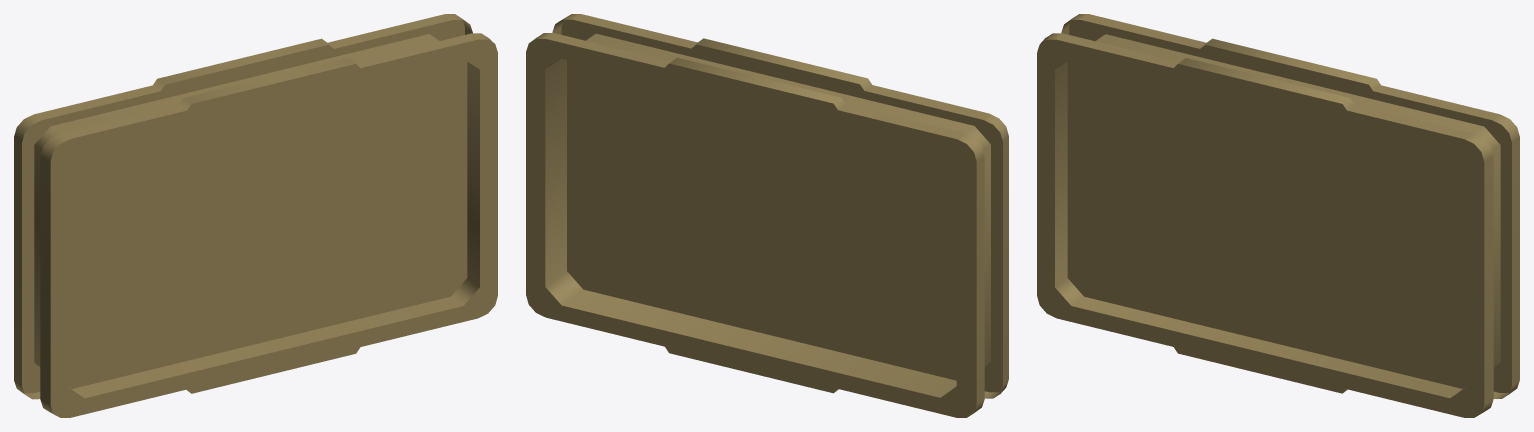
File: WindowKunckamera.fbx
The picture shows the model from 3 angles, left to right: view 1: azimuth 30°, elevation 25°; view 2: azimuth 150°, elevation 25°; view 3: azimuth 330°, elevation 25°; orthographic projection.
Parts seen in each view (by area): view 1: Glass01.001, WindowToKunckamera; view 2: Glass01.001, WindowToKunckamera; view 3: Glass01.001, WindowToKunckamera.
Boxes of the visible parts, left/top/right/bottom form: Glass01.001: left=68, top=59, right=467, bottom=388; WindowToKunckamera: left=14, top=14, right=497, bottom=417; Glass01.001: left=567, top=60, right=956, bottom=380; WindowToKunckamera: left=526, top=14, right=1008, bottom=417; Glass01.001: left=1067, top=59, right=1465, bottom=388; WindowToKunckamera: left=1037, top=14, right=1519, bottom=417.
Bounding box in the file's own units: 815 × 501 × 108.
